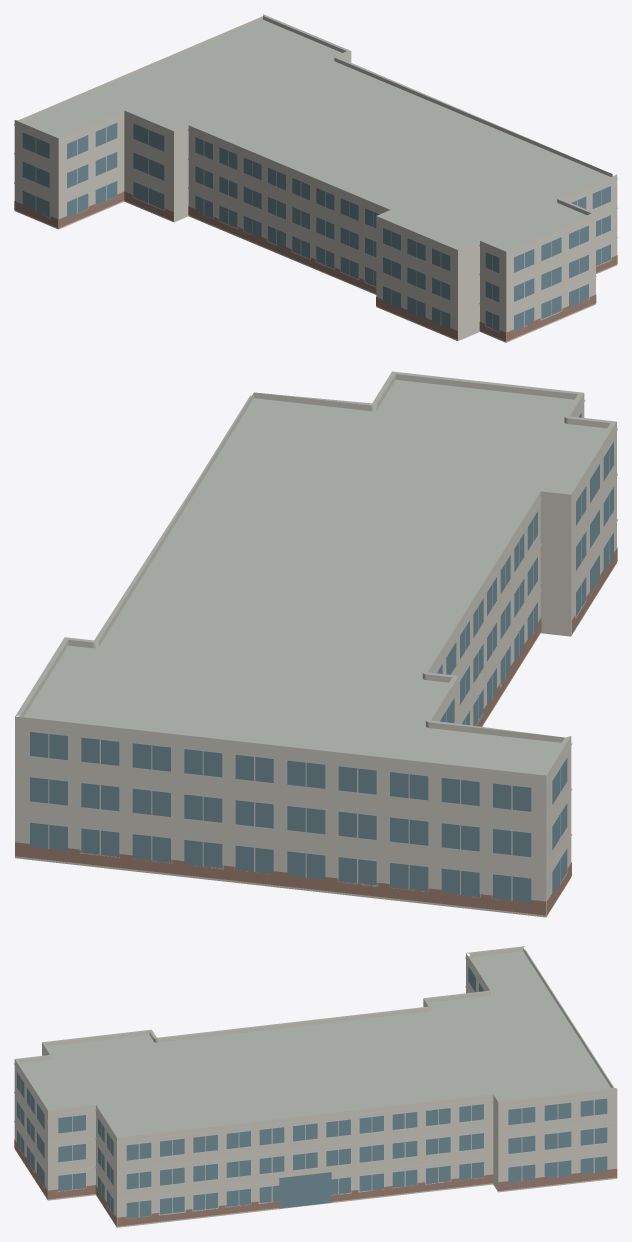
Rendered from public-c6bcb071-7153-4763-b558-7f5f30c602a9.glb.
3 views of the same model, one above another, from view 1: azimuth 30°, elevation 25°; view 2: azimuth 150°, elevation 25°; view 3: azimuth 270°, elevation 25° (orthographic). The views are drawn at different scales.
Visible parts, largest first — view 1: public-c6bcb071-7153-4763-b558-7f5f30c602a9; view 2: public-c6bcb071-7153-4763-b558-7f5f30c602a9; view 3: public-c6bcb071-7153-4763-b558-7f5f30c602a9.
Part boxes in pixels (bbox=[...]): public-c6bcb071-7153-4763-b558-7f5f30c602a9: bbox=[14, 14, 617, 342]; public-c6bcb071-7153-4763-b558-7f5f30c602a9: bbox=[15, 371, 617, 917]; public-c6bcb071-7153-4763-b558-7f5f30c602a9: bbox=[14, 946, 617, 1227].
Bounding box in the file's own units: 41.81 × 9.15 × 55.53.
